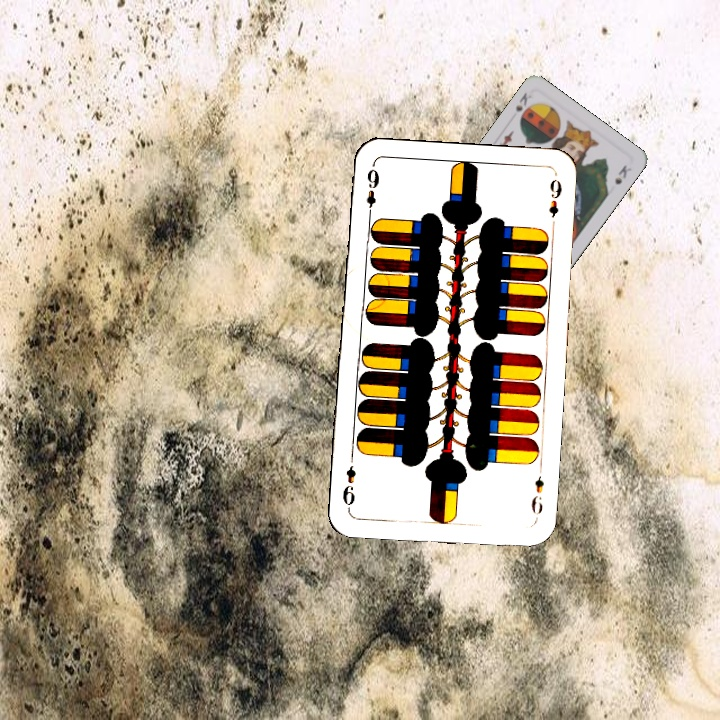E9: (362, 162, 382, 221), (527, 472, 546, 516)
SK: (511, 88, 534, 114)
